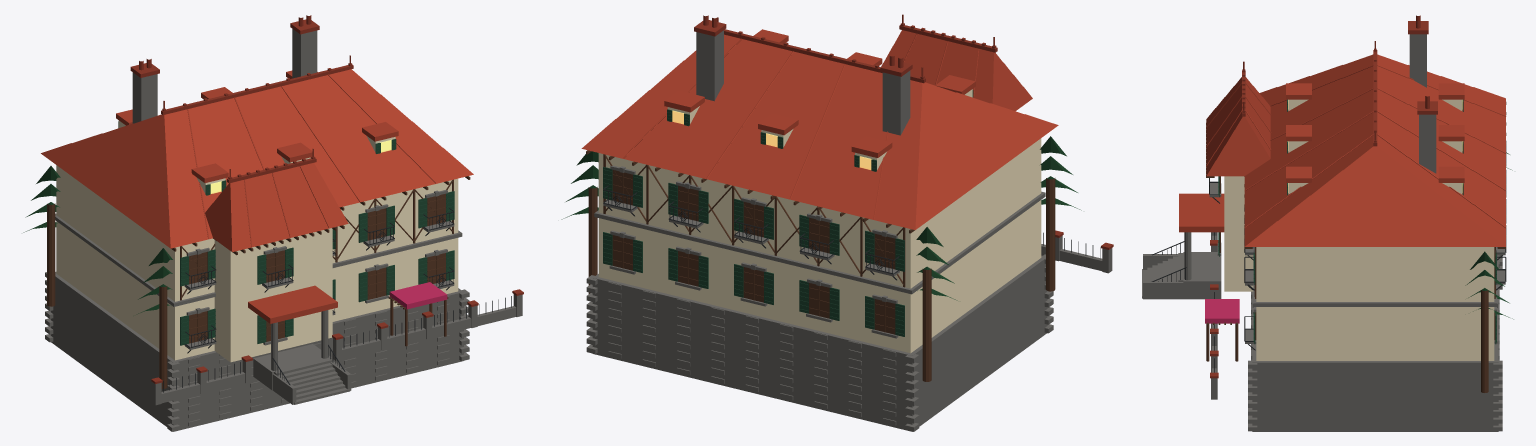
File: fv_ll_05_ana_mandara_villa_14_cochinchine_spa.glb
The picture shows the model from 3 angles, left to right: view 1: azimuth 30°, elevation 25°; view 2: azimuth 150°, elevation 25°; view 3: azimuth 270°, elevation 25°; orthographic projection. The views are drawn at different scales.
Parts seen in each view (by area): view 1: marseille_corrugated_roof_tiles, granite_foundation_and_stairs, stucco_facade_and_dormers, colombage_timber_and_eaves, pine_green_louvered_shutters, ridge_cresting_and_chimneys, wrought_iron_balconies_3d, pine_trees_and_garden_hedges, bougainvillea_pergola_clusters; view 2: marseille_corrugated_roof_tiles, granite_foundation_and_stairs, stucco_facade_and_dormers, colombage_timber_and_eaves, pine_green_louvered_shutters, ridge_cresting_and_chimneys, pine_trees_and_garden_hedges, wrought_iron_balconies_3d; view 3: marseille_corrugated_roof_tiles, stucco_facade_and_dormers, granite_foundation_and_stairs, colombage_timber_and_eaves, ridge_cresting_and_chimneys, bougainvillea_pergola_clusters, wrought_iron_balconies_3d, pine_green_louvered_shutters, pine_trees_and_garden_hedges.
Boxes of the visible parts, <box> form: marseille_corrugated_roof_tiles: <box>41,69,473,323</box>; granite_foundation_and_stairs: <box>45,29,522,431</box>; stucco_facade_and_dormers: <box>56,120,458,362</box>; colombage_timber_and_eaves: <box>47,176,470,388</box>; pine_green_louvered_shutters: <box>118,121,454,345</box>; ridge_cresting_and_chimneys: <box>130,15,523,383</box>; wrought_iron_balconies_3d: <box>163,208,511,392</box>; pine_trees_and_garden_hedges: <box>23,166,172,314</box>; bougainvillea_pergola_clusters: <box>389,282,447,309</box>; marseille_corrugated_roof_tiles: <box>581,29,1058,230</box>; granite_foundation_and_stairs: <box>586,30,1112,431</box>; stucco_facade_and_dormers: <box>598,89,1041,353</box>; colombage_timber_and_eaves: <box>586,150,1055,381</box>; pine_green_louvered_shutters: <box>603,90,973,336</box>; ridge_cresting_and_chimneys: <box>694,14,1113,249</box>; pine_trees_and_garden_hedges: <box>561,136,1081,300</box>; wrought_iron_balconies_3d: <box>603,185,1100,280</box>; marseille_corrugated_roof_tiles: <box>1179,54,1506,246</box>; stucco_facade_and_dormers: <box>1224,99,1494,360</box>; granite_foundation_and_stairs: <box>1142,34,1505,431</box>; colombage_timber_and_eaves: <box>1206,102,1506,392</box>; ridge_cresting_and_chimneys: <box>1210,15,1437,378</box>; bougainvillea_pergola_clusters: <box>1205,299,1239,323</box>; wrought_iron_balconies_3d: <box>1151,141,1506,372</box>; pine_green_louvered_shutters: <box>1218,99,1496,344</box>; pine_trees_and_garden_hedges: <box>1465,152,1513,319</box>.
Bounding box in the file's own units: 26.52 × 20.53 × 23.59.
